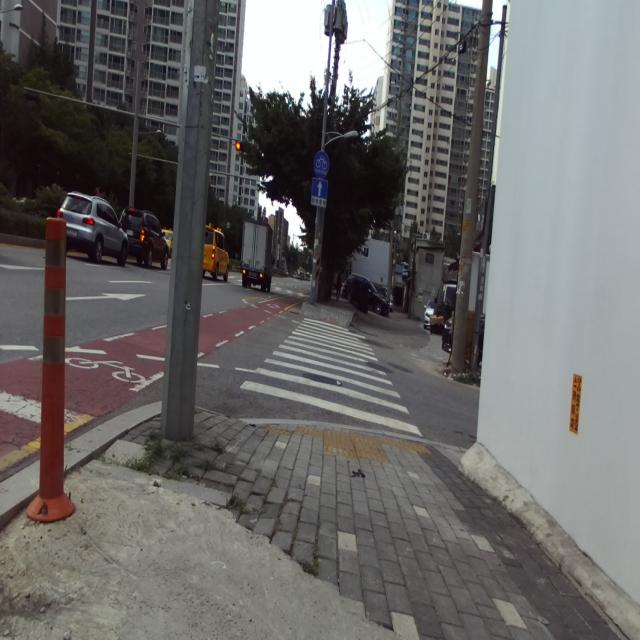횡단보도: (240, 318, 423, 436)
